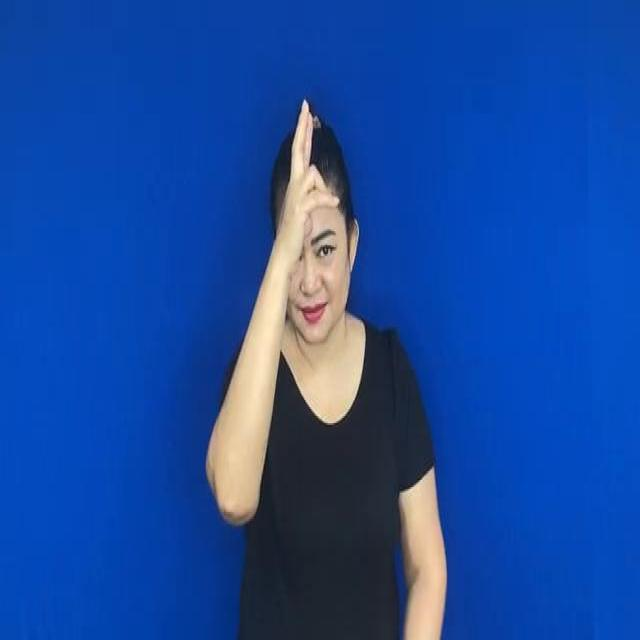chicken: (273, 96, 344, 250)
